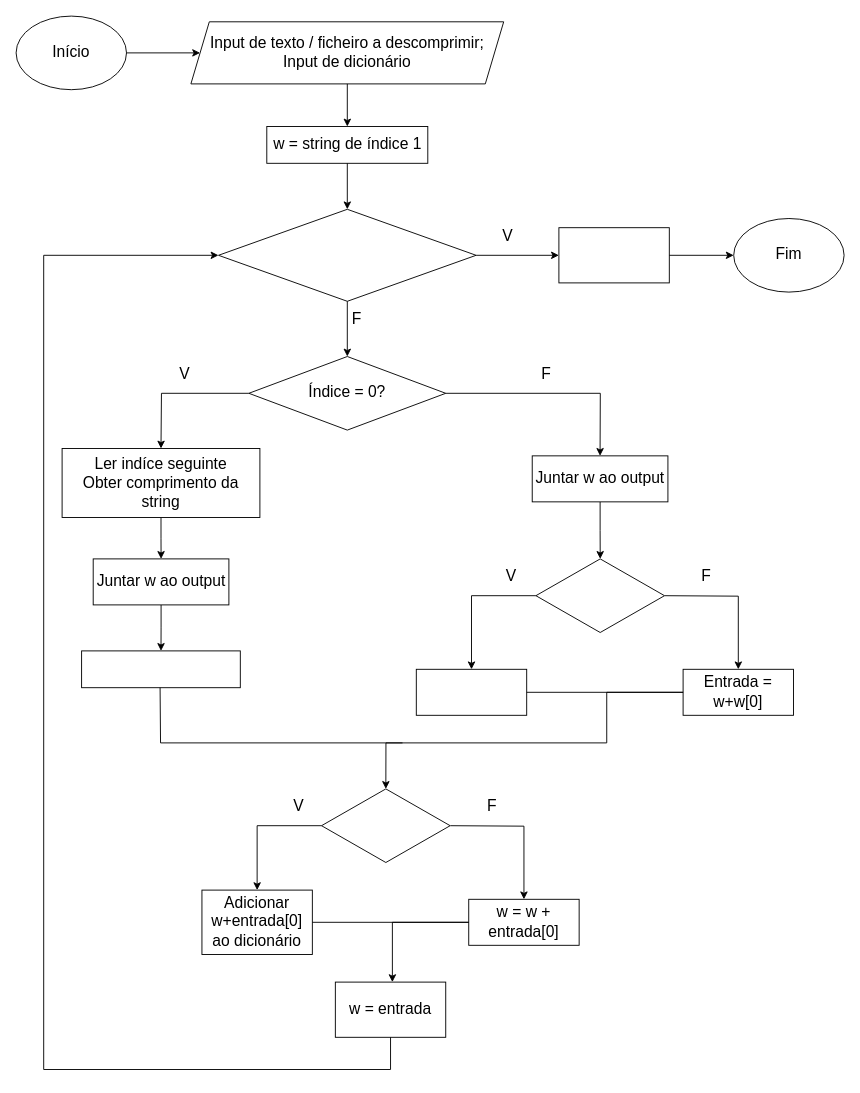
Some shapes in this 860 by 1093 pixel diagram are drawn without their labels. The shapes that lost their labels are listed below. From the top down, each one's centre as x and y in pixels, then its label:
At point (347, 254): "Ler input a descomprimir; fim do ficheiro?".
At point (613, 255): "String = ficheiro descomprimido".
At point (600, 595): "Está no dicionário?".
At point (160, 669): "Entrada = substring".
At point (471, 691): "Entrada = valor do índice".
At point (385, 825): "w.length < 2?".
